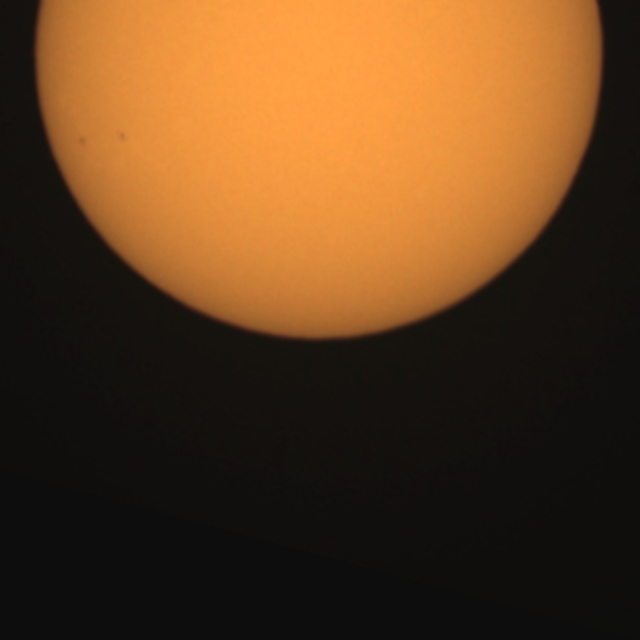sunspot: (115, 128, 129, 145), (75, 133, 89, 150)
